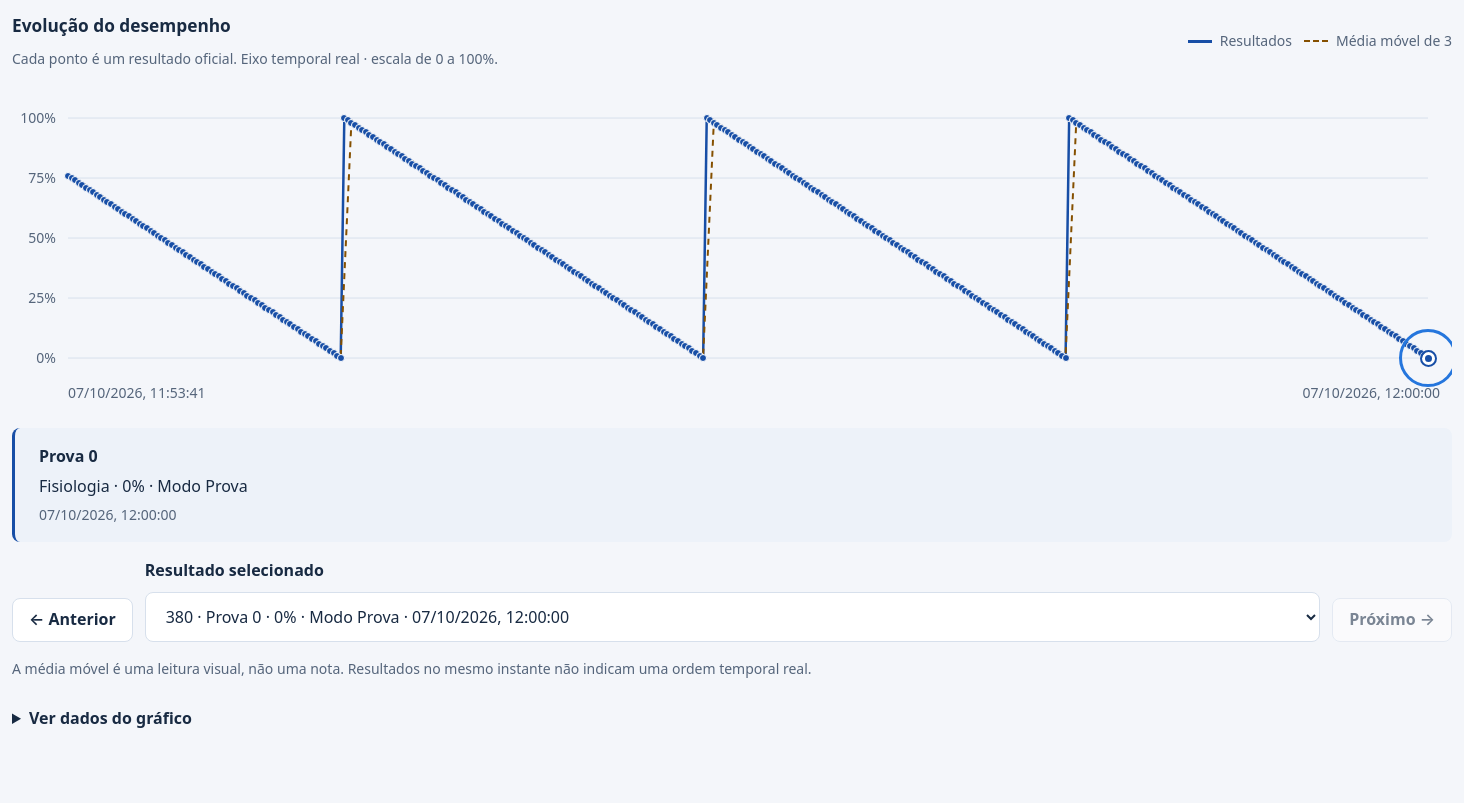
Test: representações acessíveis dos gráficos › centenas de pontos: todos os resultados na tabela e seleção nativa; setas com foco
Press Home
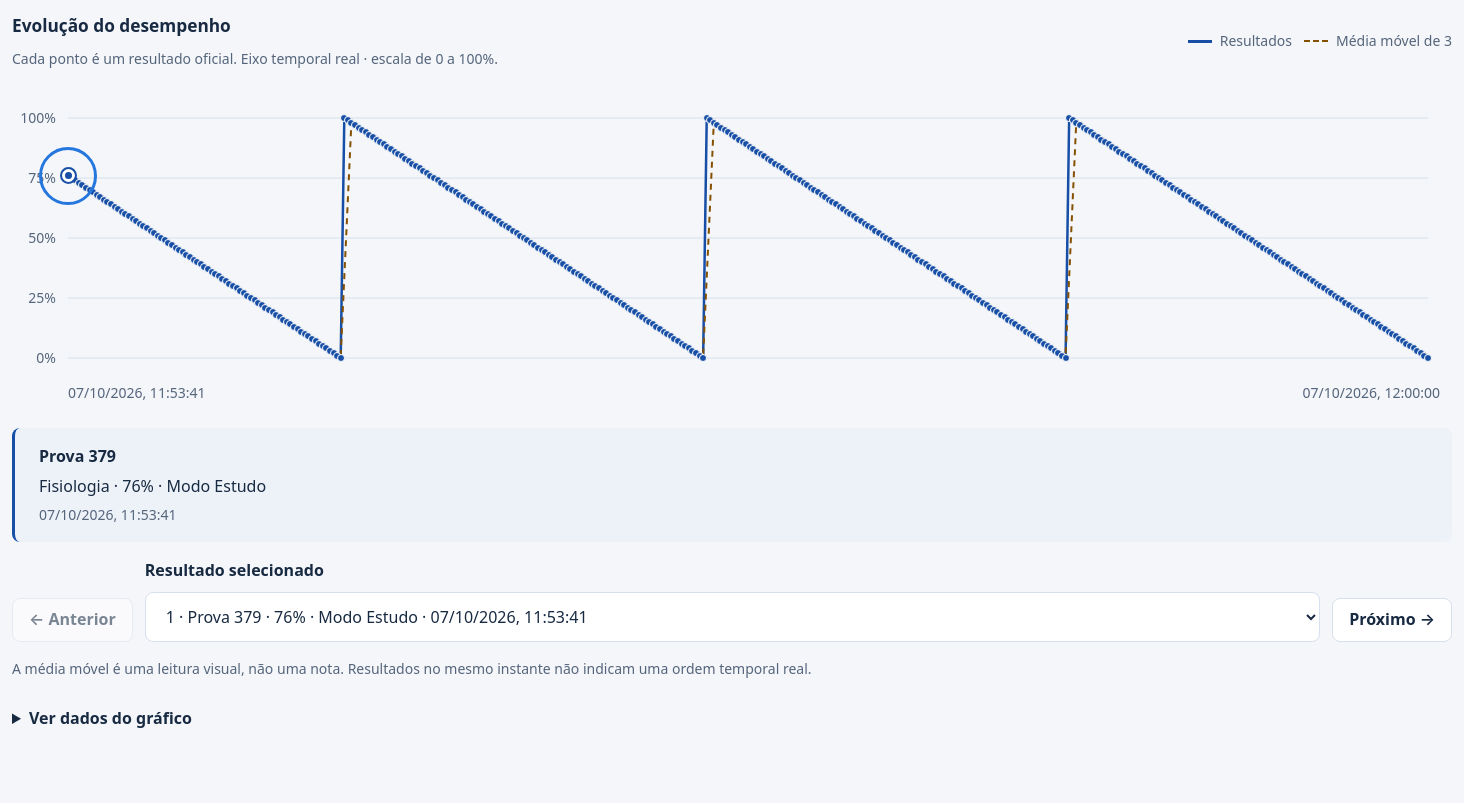
Press Arrowright
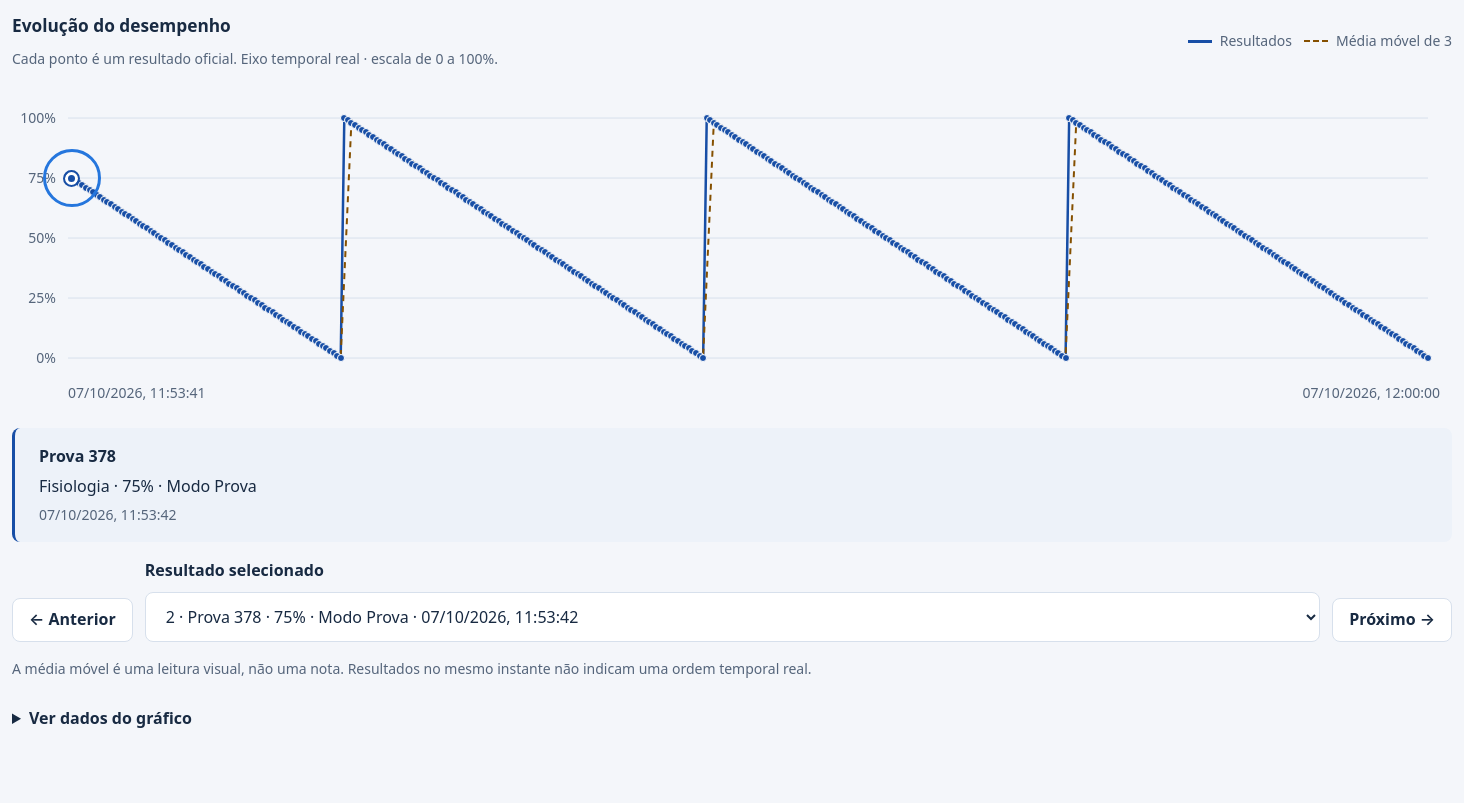
Press End
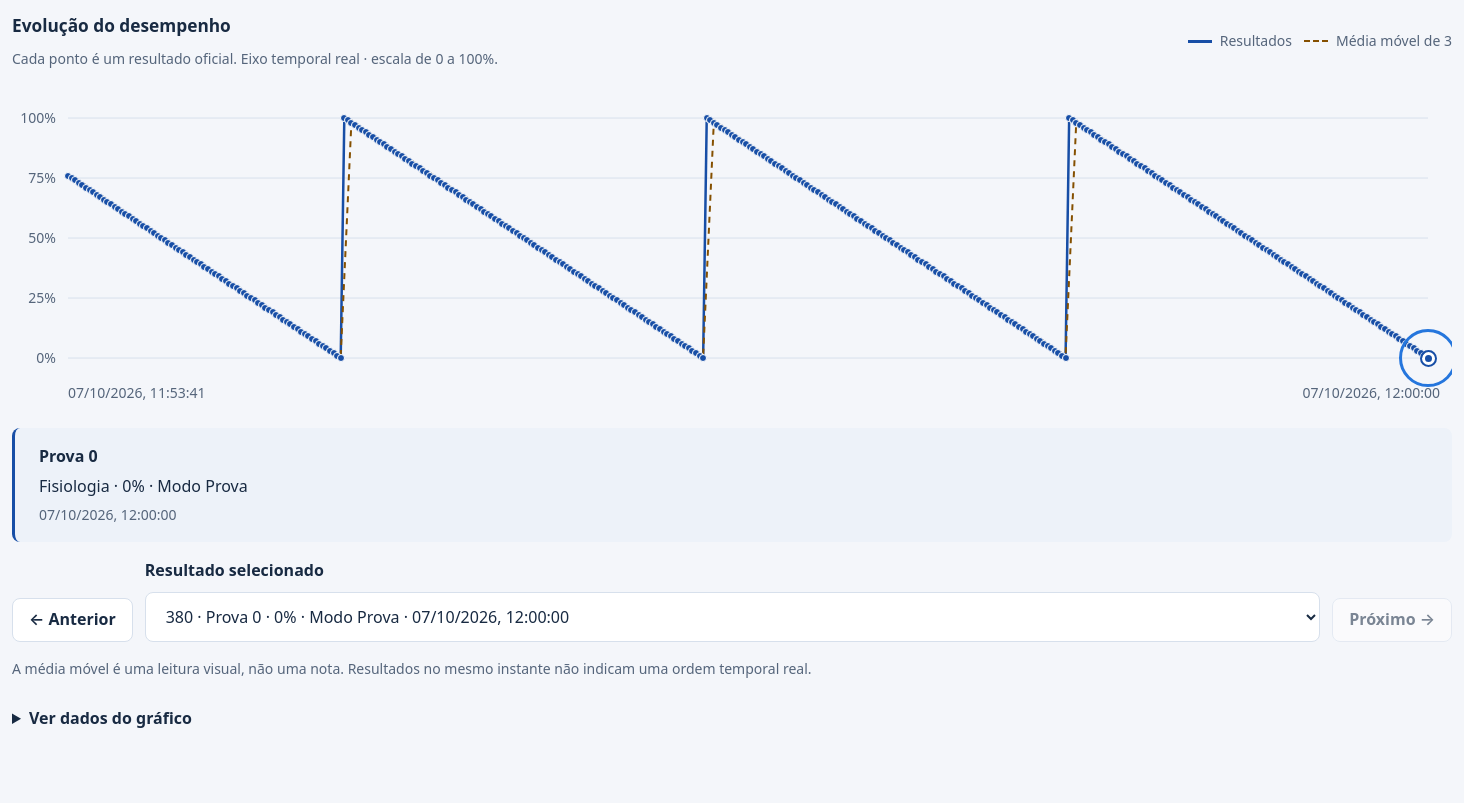
Click the heading "Ver dados do gráfico" at (110, 718), box [29,707,192,729]
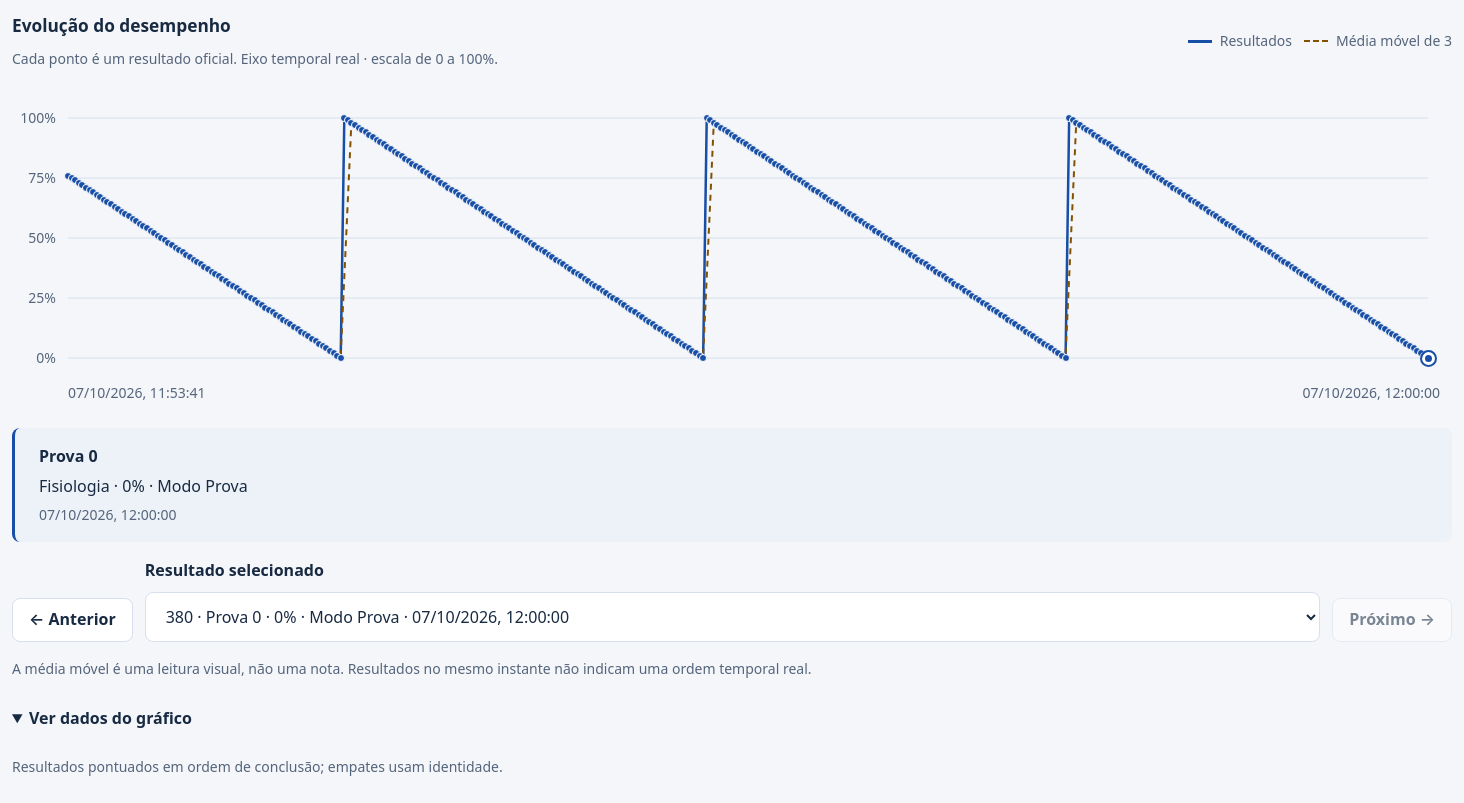
Expected: the element with class "moving-average" is shown, [75,120,1428,356]
Now the number of rows is 381
